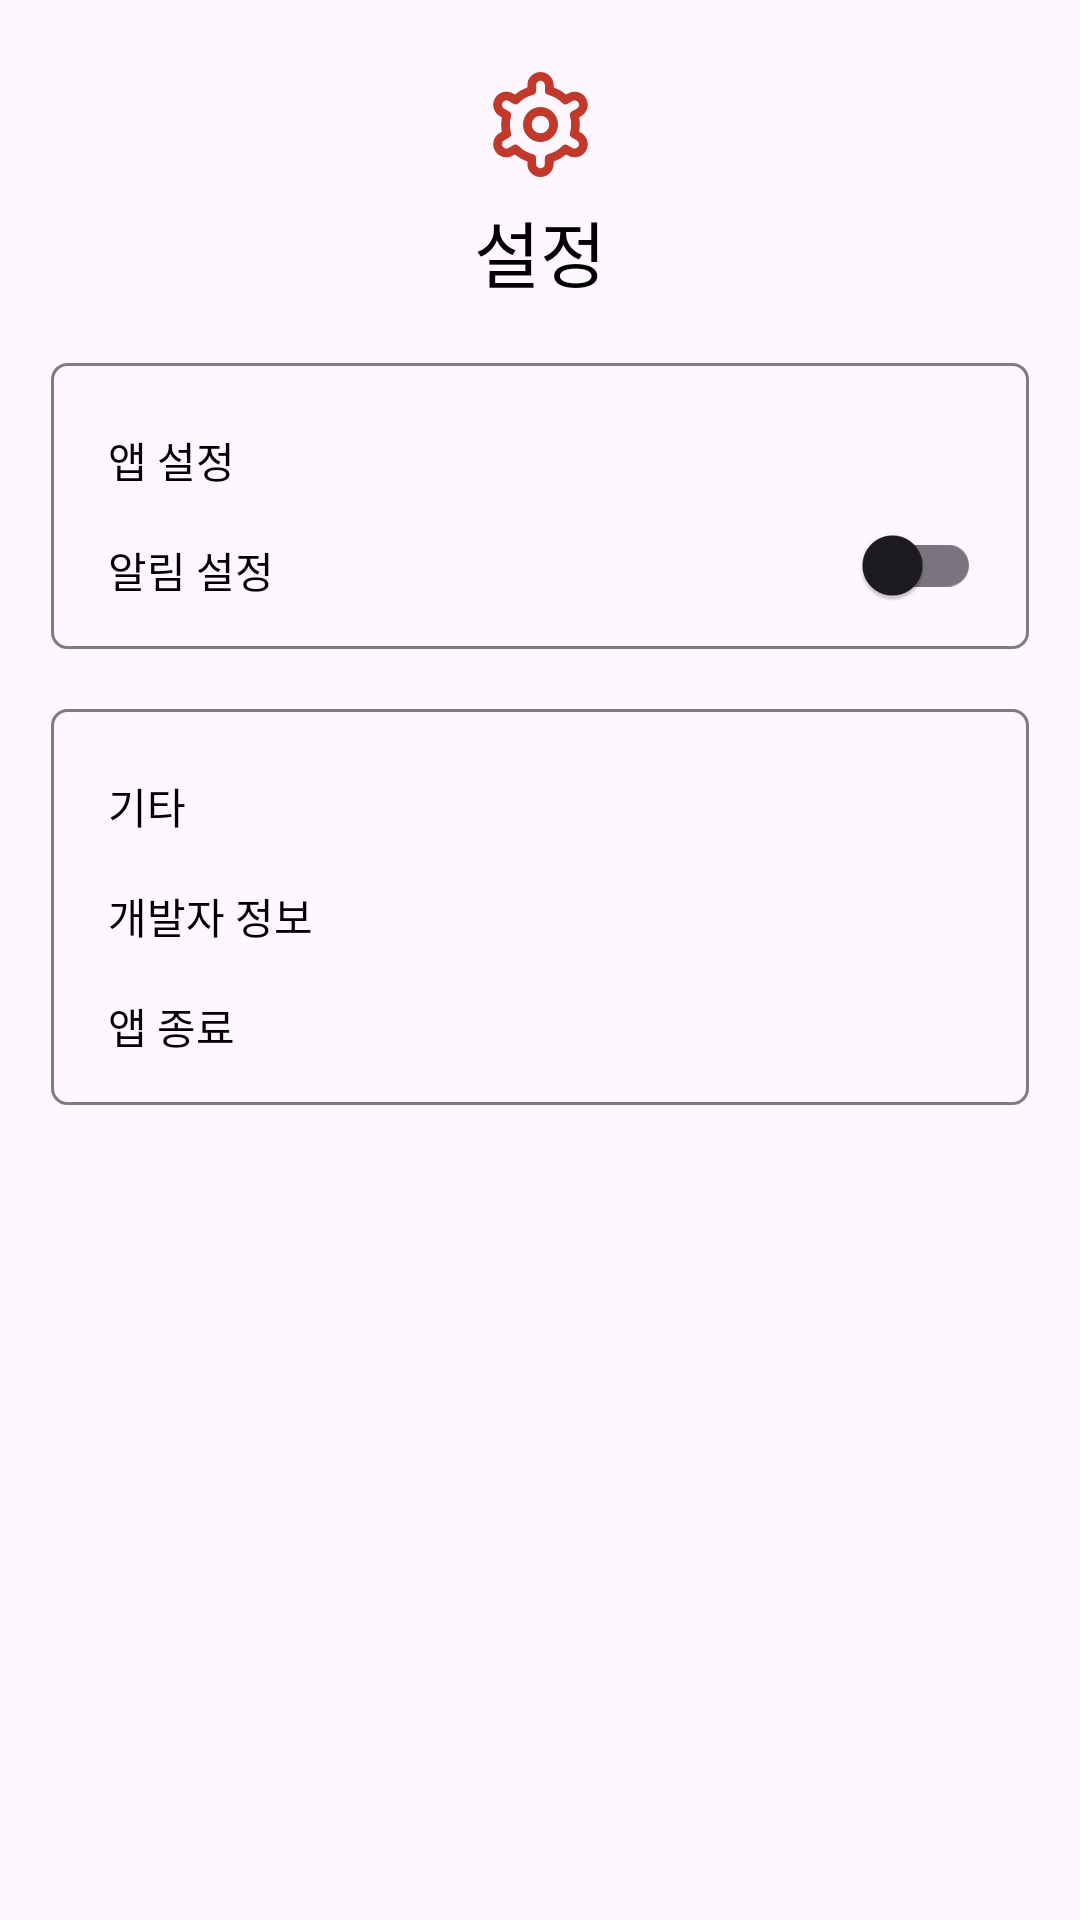

Point at icon controls on the screen. Image size 1080*1920, points as point (x, y).
settings: point (540, 124)
